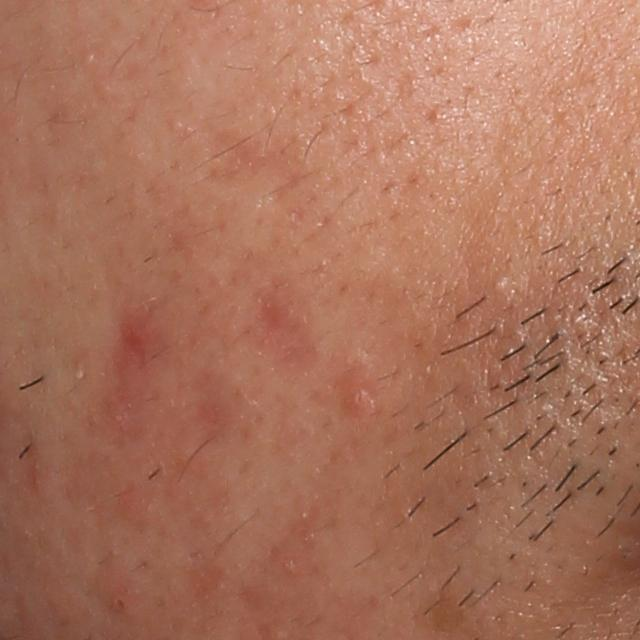atrophic_scar: (198, 127, 318, 194)
comedo: (488, 268, 517, 297)
papule: (118, 304, 168, 364), (342, 375, 379, 417)
